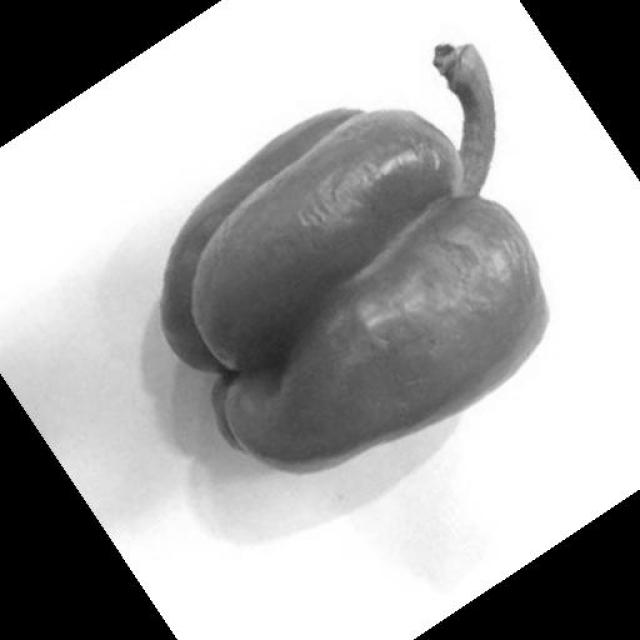Fresh_Capsicum: (160, 35, 547, 437)
